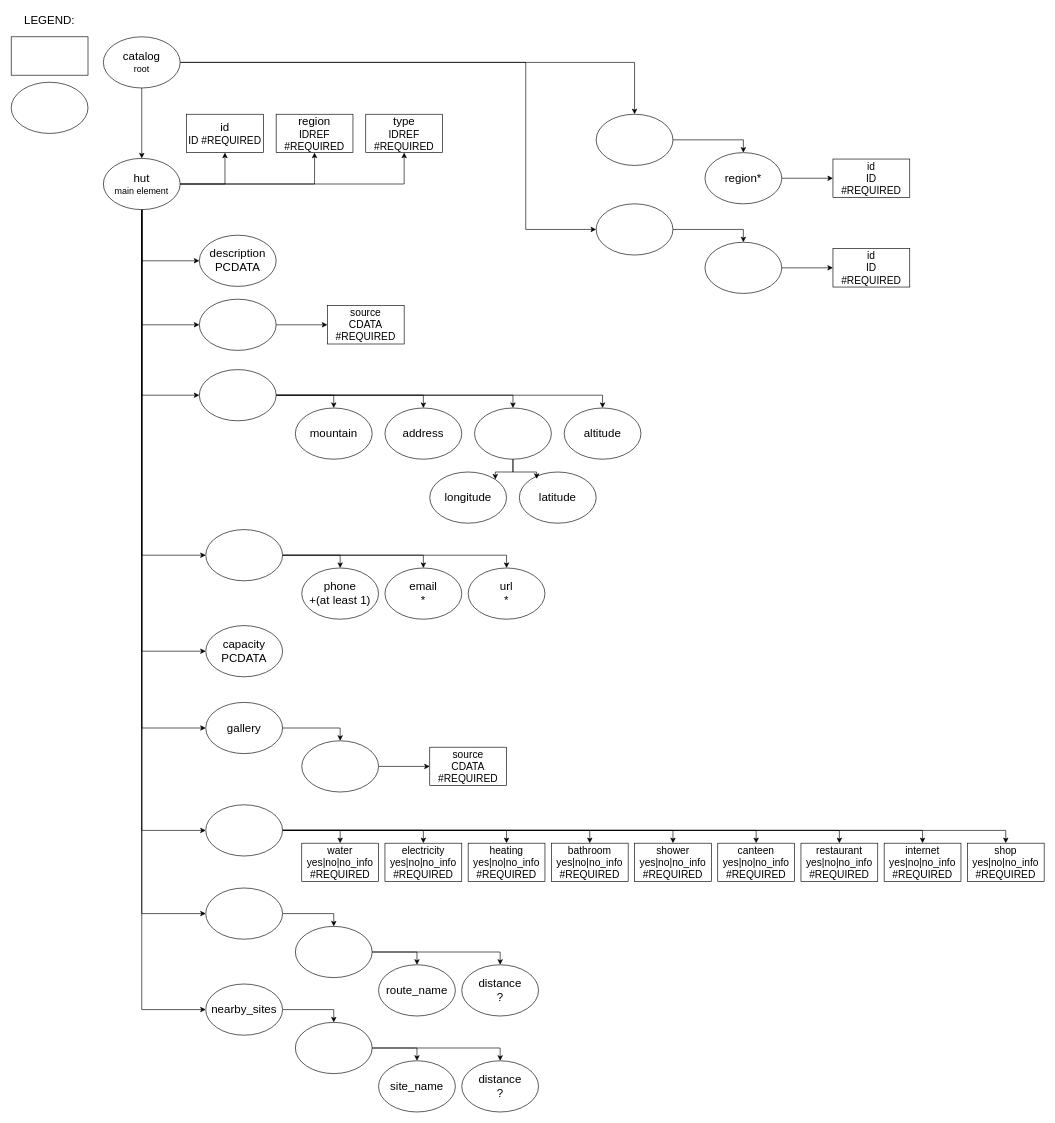
Image size: 1055x1123. Some labels were removed from this diagram. Each missing label, with the centre of its shape:
amenities: the point at 244,830
ATTRIBUTE: the point at 49,55
contacts: the point at 244,555
coordinates: the point at 512,433
ELEMENT: the point at 49,107
exit_routes: the point at 244,913
hut_types: the point at 634,229
image*: the point at 340,766
location: the point at 237,395
regions: the point at 634,139
route*: the point at 333,952
site*: the point at 333,1048
thumbnail: the point at 237,324
type*: the point at 743,267
